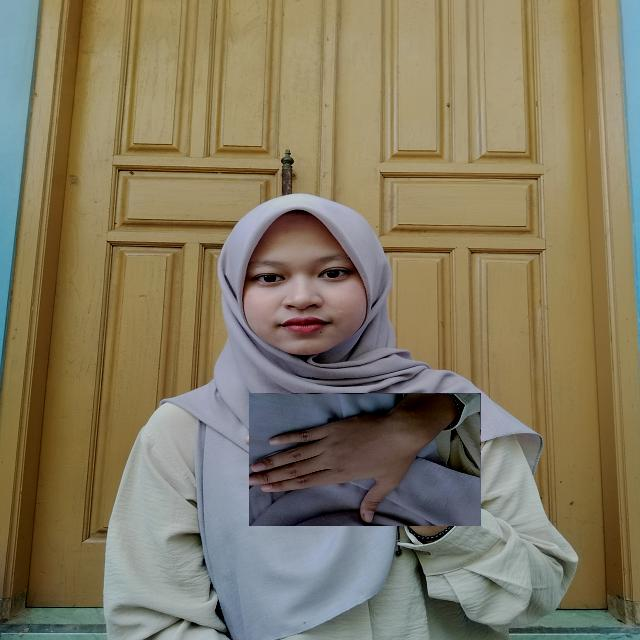tolong: (249, 393, 481, 526)
